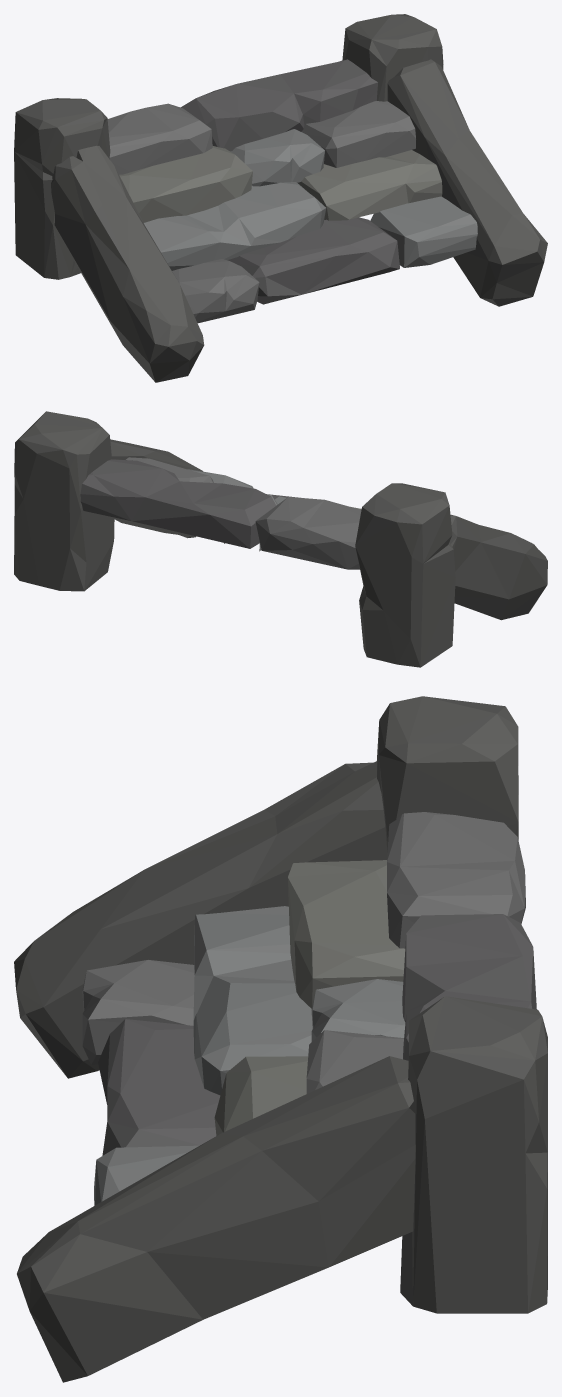
Rendered from um_stair001.FBX.
3 views of the same model, one above another, from view 1: azimuth 30°, elevation 25°; view 2: azimuth 150°, elevation 25°; view 3: azimuth 270°, elevation 25° (orthographic). The views are drawn at different scales.
Parts seen in each view (by area): view 1: um_stair001; view 2: um_stair001; view 3: um_stair001.
Boxes of the visible parts, x1,y1,x2,y2 form: um_stair001: (14, 14, 547, 382); um_stair001: (14, 411, 547, 667); um_stair001: (14, 696, 547, 1382).
Bounding box in the file's own units: 3.6 × 1.69 × 2.3.
